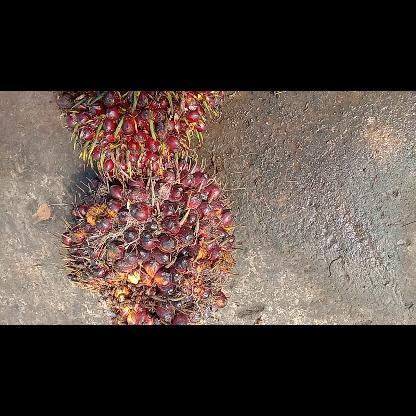Kurang masak: (56, 91, 218, 181)
TBS masak: (58, 152, 242, 324)
